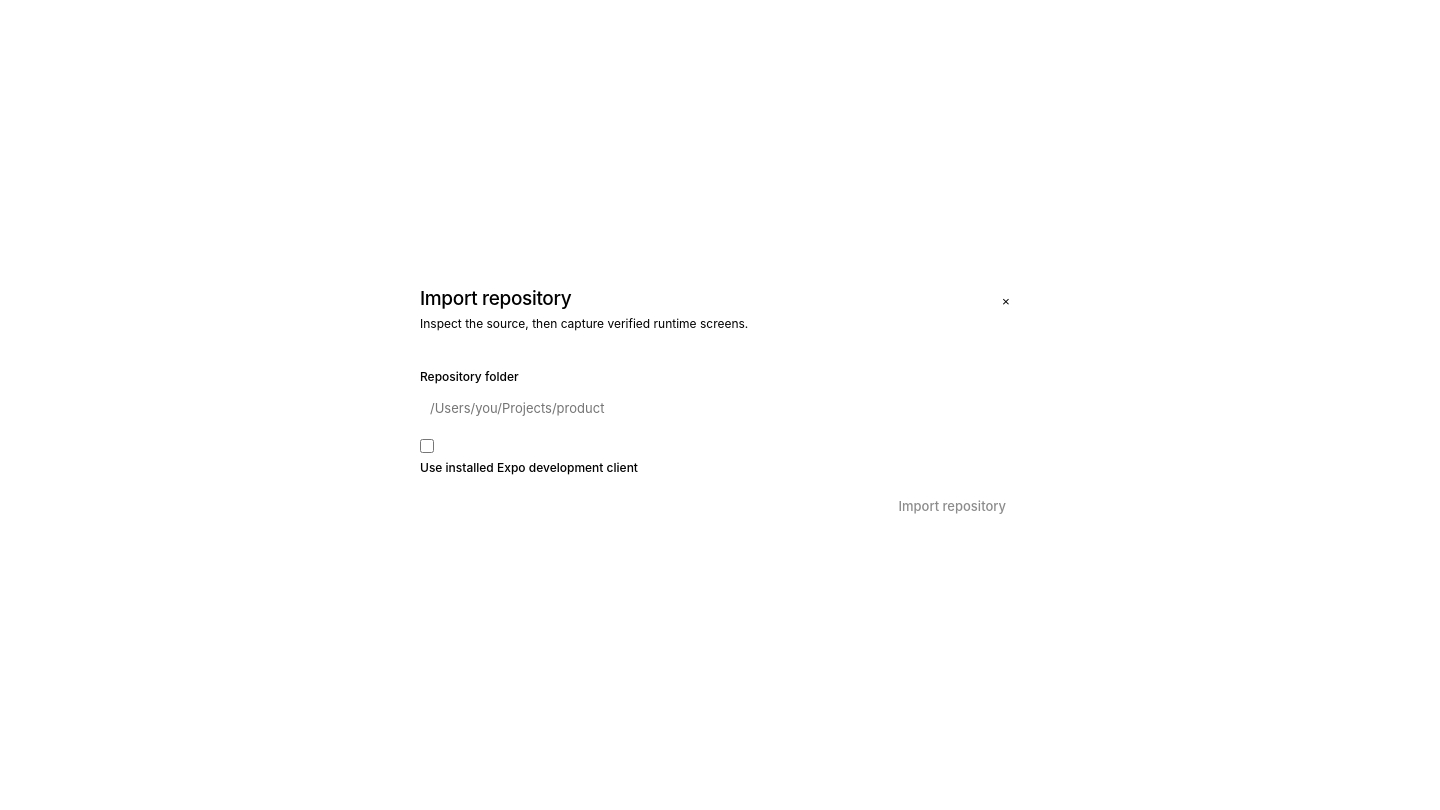
Test: RepositoryImportDialog › replaces the form with a clean loading workspace while validating
Type "/Projects/northstar" into the field labelled "Repository folder".
click(716, 408); type("/Projects/northstar")  # box [420,391,1012,425]
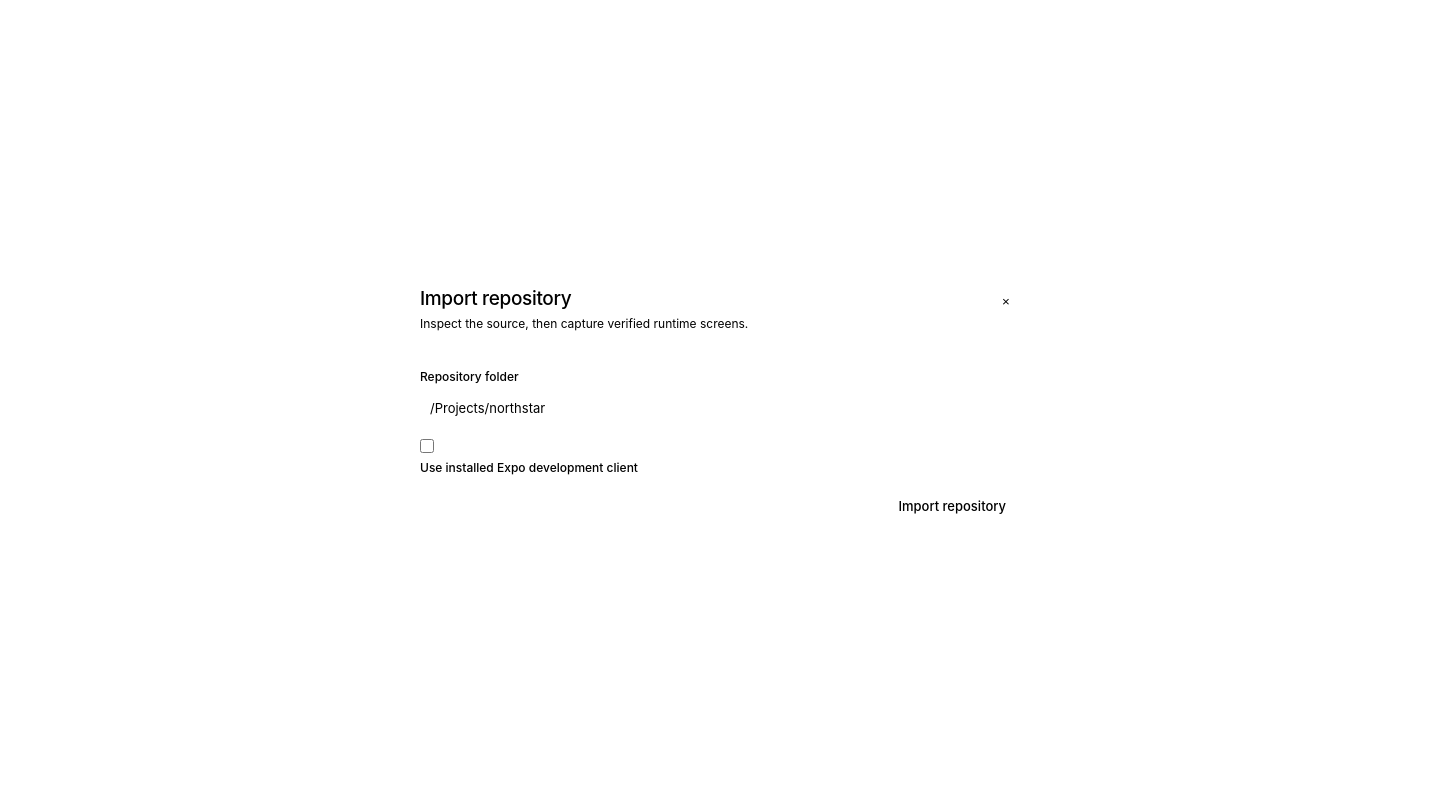
Click the button "Import repository".
click(952, 506)  # box [884,489,1020,523]
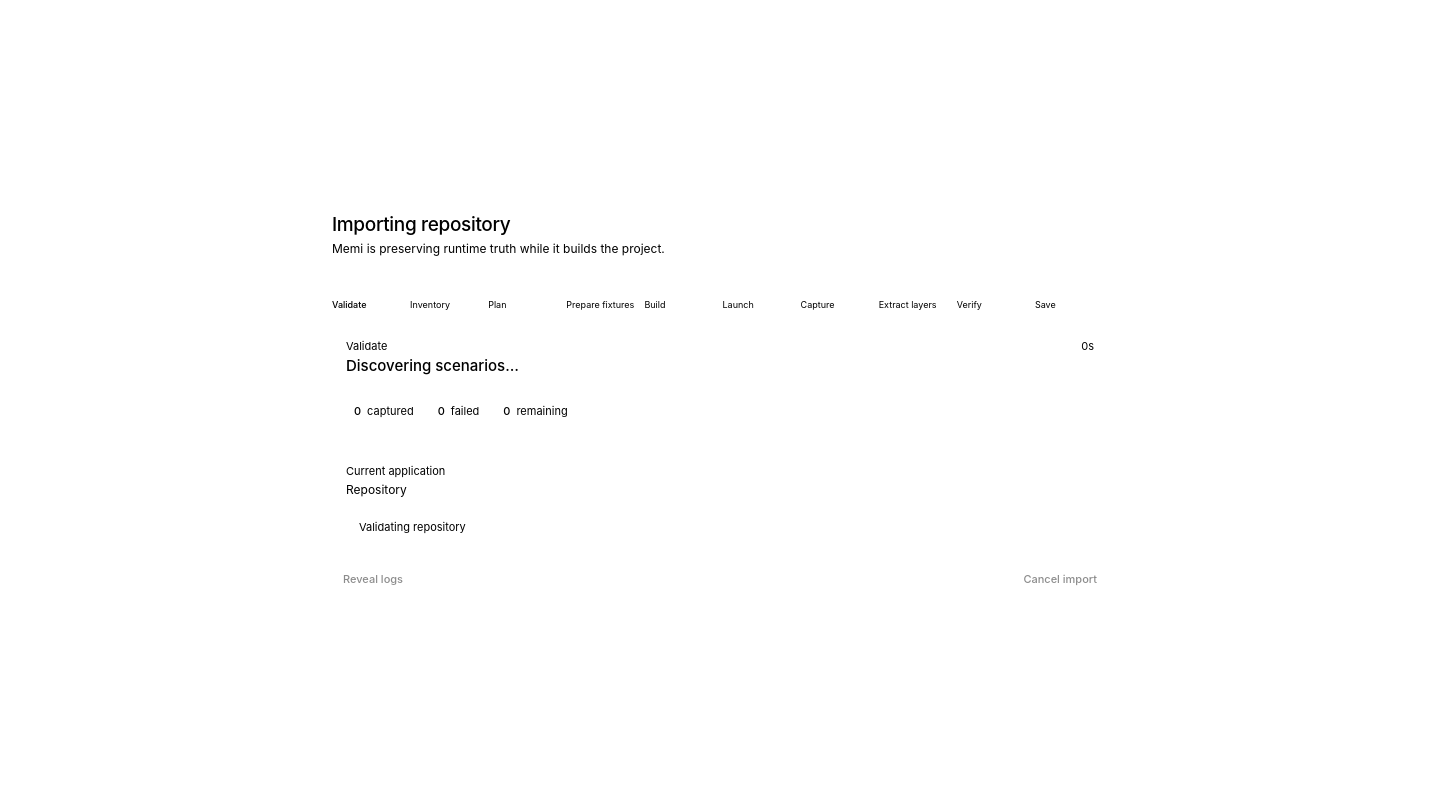
Check: the heading "Importing repository" is shown, box [332,212,510,236]
Check: the text "Validating repository" is shown, box [359,520,466,534]
